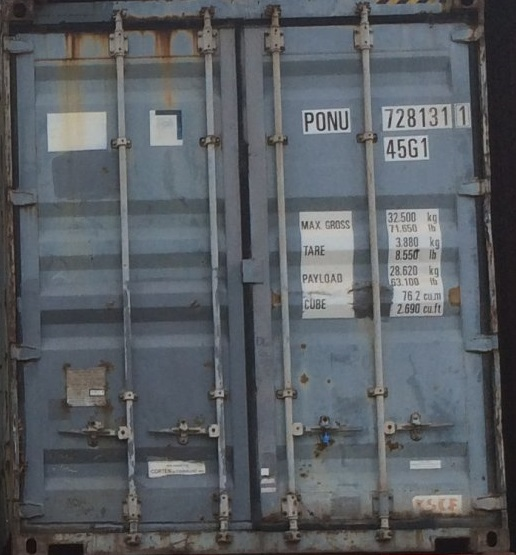container_door: (7, 1, 499, 553)
